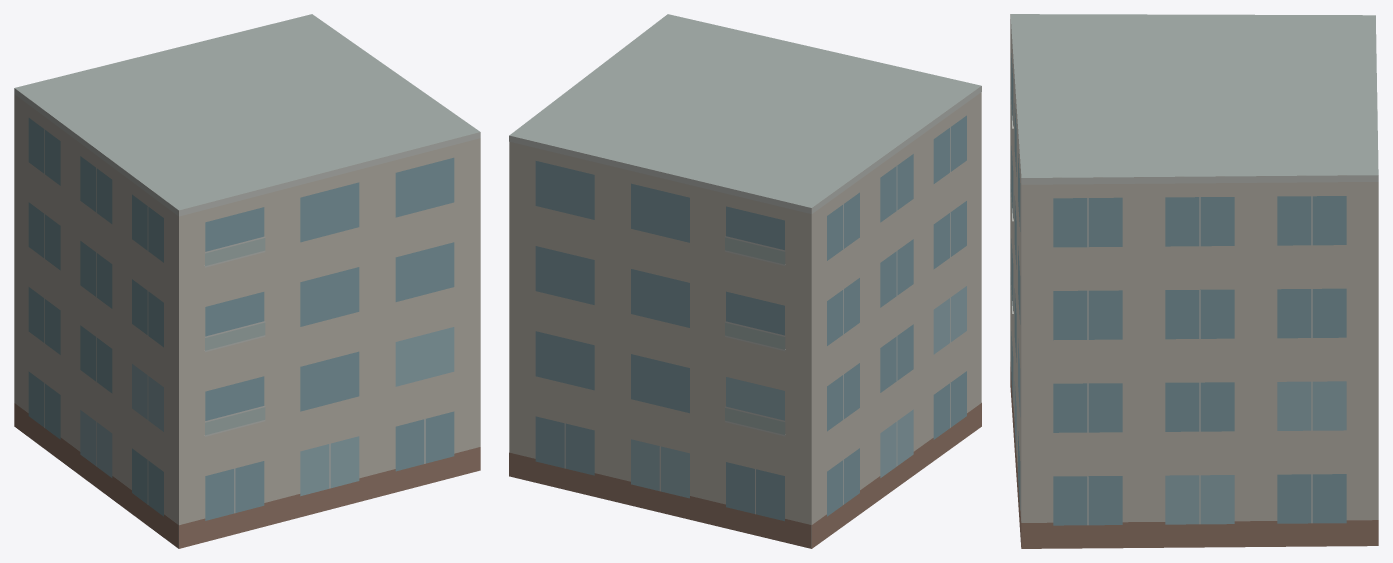
File: survey-upis-32463186.glb
The picture shows the model from 3 angles, left to right: view 1: azimuth 30°, elevation 25°; view 2: azimuth 150°, elevation 25°; view 3: azimuth 270°, elevation 25°; orthographic projection. The views are drawn at different scales.
Parts seen in each view (by area): view 1: survey-upis-32463186.tmp; view 2: survey-upis-32463186.tmp; view 3: survey-upis-32463186.tmp.
Boxes of the visible parts, bbox=[...] form: survey-upis-32463186.tmp: bbox=[14, 14, 480, 548]; survey-upis-32463186.tmp: bbox=[509, 14, 981, 548]; survey-upis-32463186.tmp: bbox=[1010, 14, 1378, 548].
Size of the model in its own units: 12.82 by 13.5 by 12.16.
